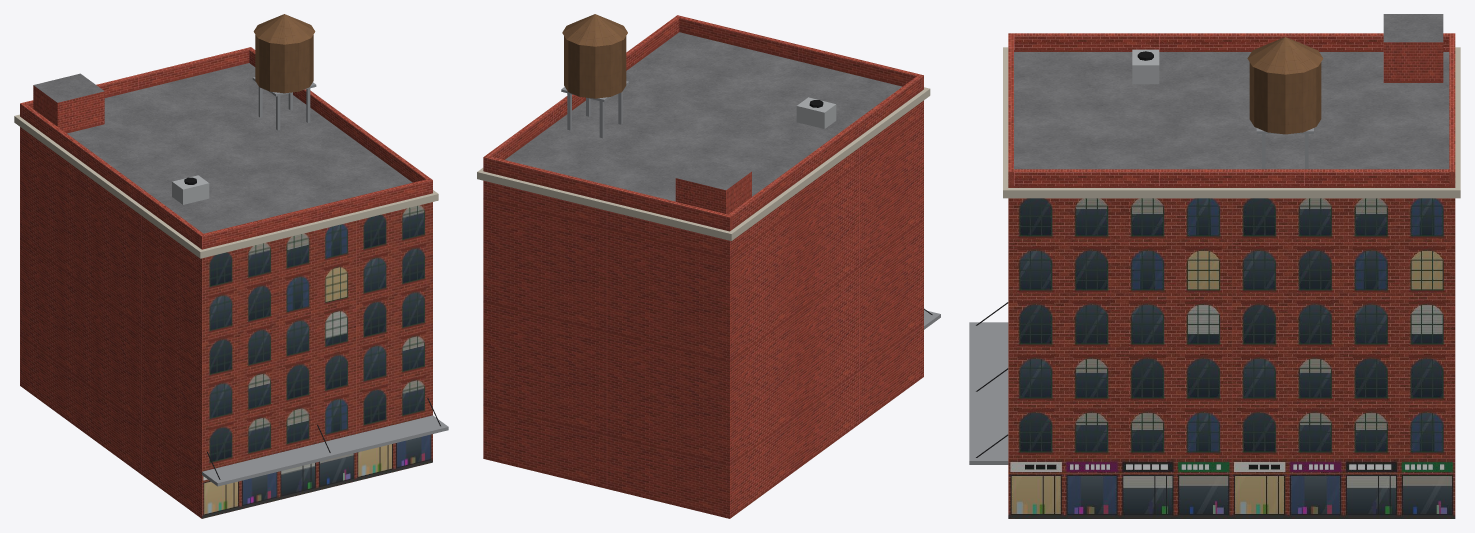
File: 032_warehouse_loft_shops.glb
3 views of the same model, side by side, from view 1: azimuth 30°, elevation 25°; view 2: azimuth 150°, elevation 25°; view 3: azimuth 270°, elevation 25° (orthographic). The views are drawn at different scales.
Parts seen in each view (by area): view 1: 032_warehouse_loft_shops; view 2: 032_warehouse_loft_shops; view 3: 032_warehouse_loft_shops.
Part boxes in pixels (x1=…): 032_warehouse_loft_shops: x1=14, y1=14, x2=448, y2=518; 032_warehouse_loft_shops: x1=477, y1=14, x2=940, y2=518; 032_warehouse_loft_shops: x1=969, y1=14, x2=1460, y2=518.
Size of the model in its own units: 22.7 by 34.1 by 32.95.
10 materials, 5 textured.
